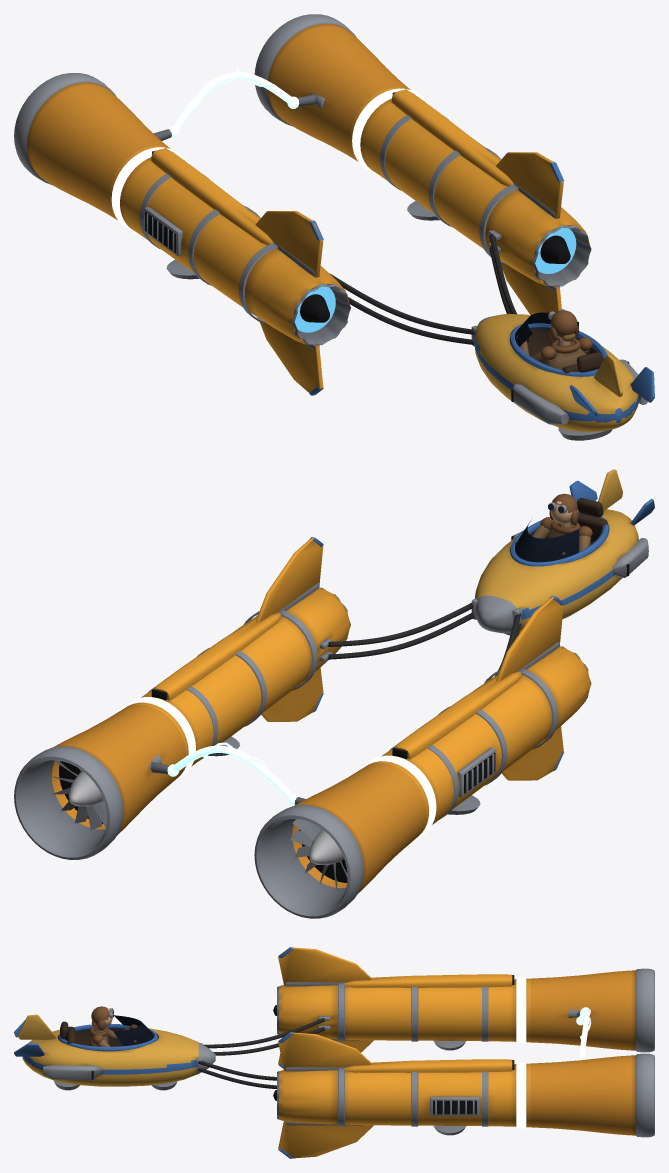
Rendered from podracer.glb.
3 renders of one model, top to bottom at view 1: azimuth 30°, elevation 25°; view 2: azimuth 150°, elevation 25°; view 3: azimuth 270°, elevation 25°, orthographic. The views are drawn at different scales.
Parts seen in each view (by area): view 1: body; view 2: body, fan_R, fan_L; view 3: body.
Boxes of the visible parts, left/top/right/bottom form: body: left=14, top=14, right=654, bottom=440; body: left=14, top=469, right=654, bottom=918; fan_R: left=50, top=760, right=106, bottom=830; fan_L: left=290, top=819, right=347, bottom=889; body: left=14, top=947, right=654, bottom=1158.
Bounding box in the file's own units: 2.84 × 1.38 × 6.38.
